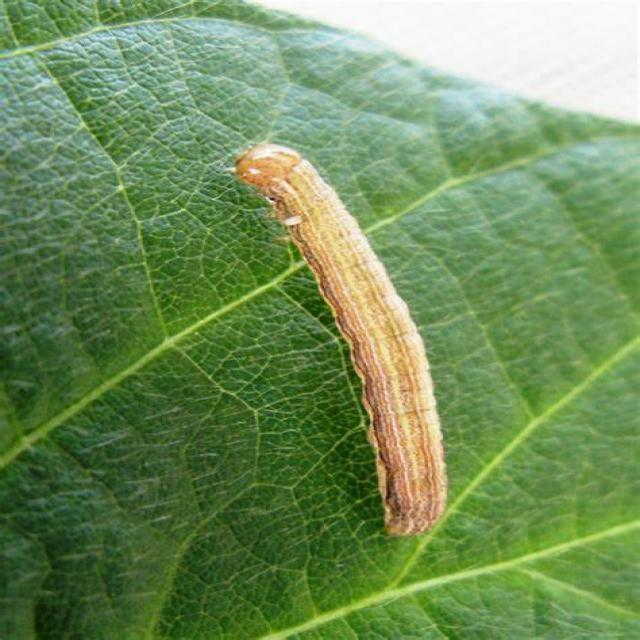armyworm: (206, 130, 484, 549)
